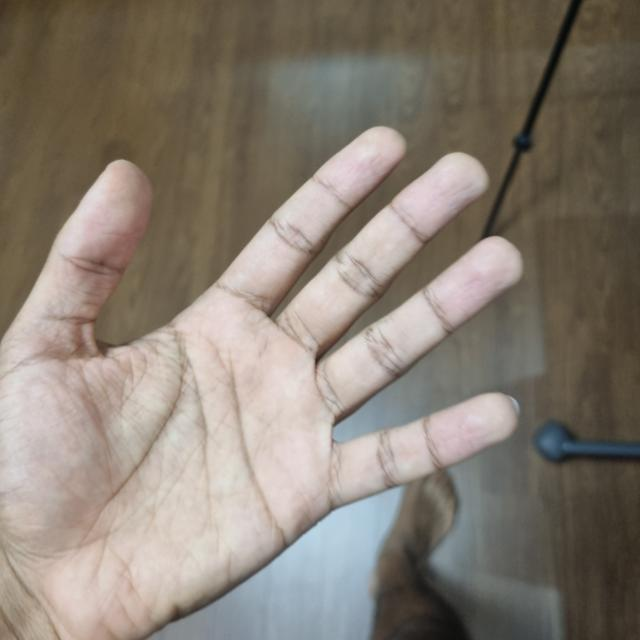Paper: (1, 130, 519, 639)
